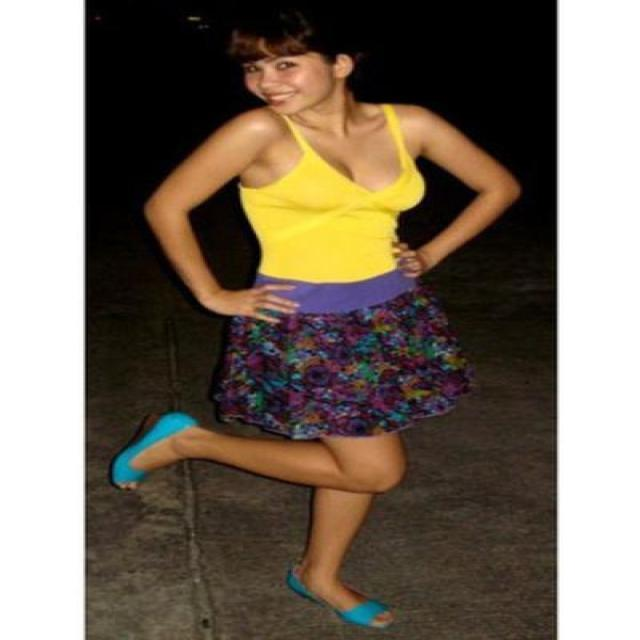shirt: (240, 147, 424, 282)
shoe: (114, 413, 382, 624)
skirt: (197, 282, 472, 443)
